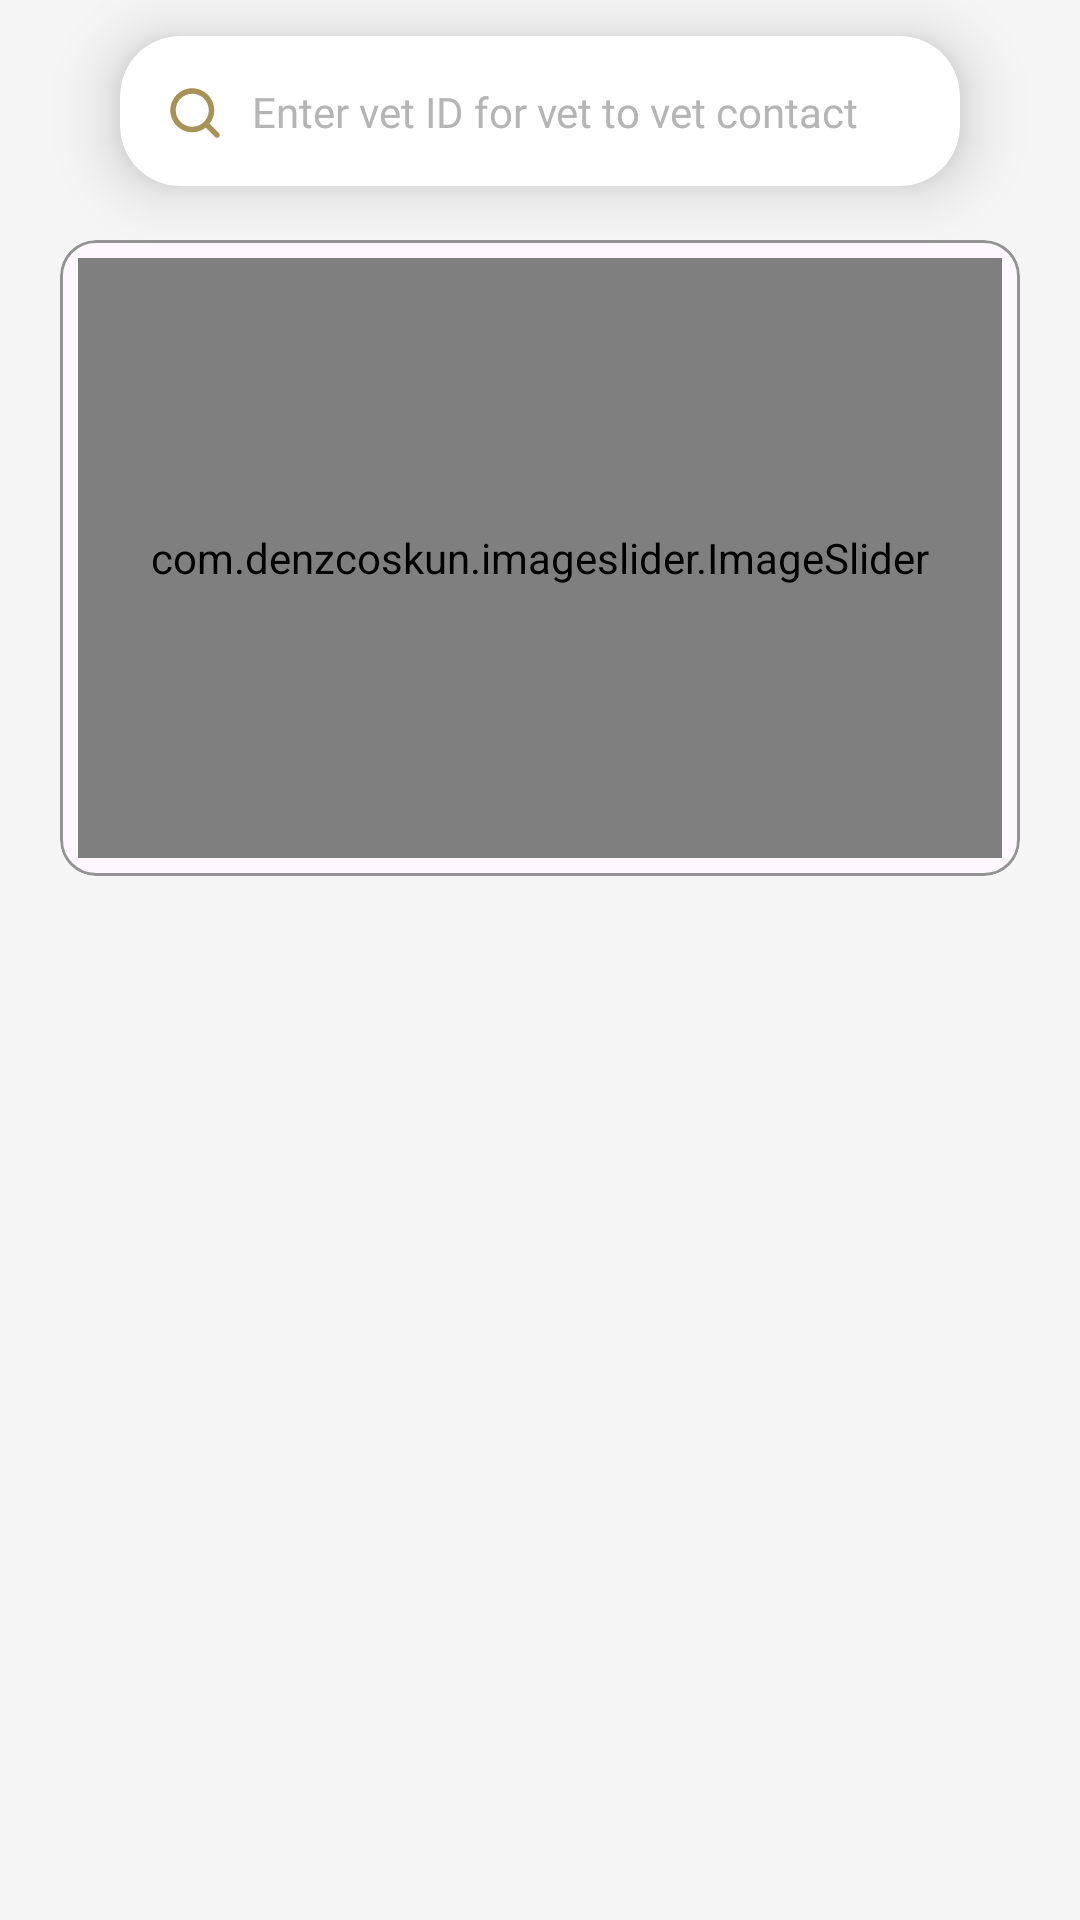

Locate icon controls on the screen. Image size 1080x1920, boxes as detection(x1, y1, x2, y2).
search: detection(170, 88, 220, 138)
